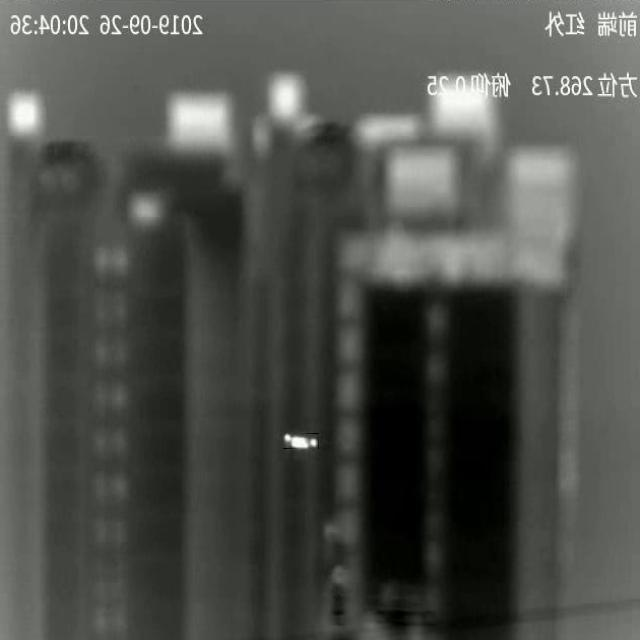drone: (283, 433, 319, 449)
